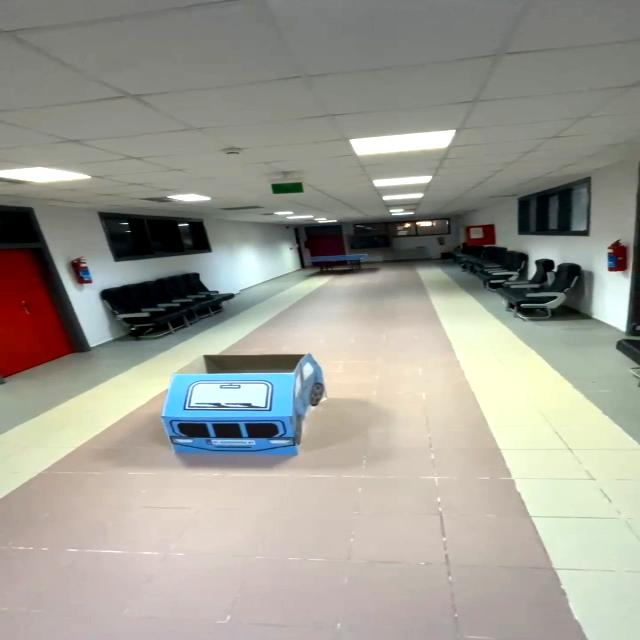blue_car: (97, 325, 350, 490)
